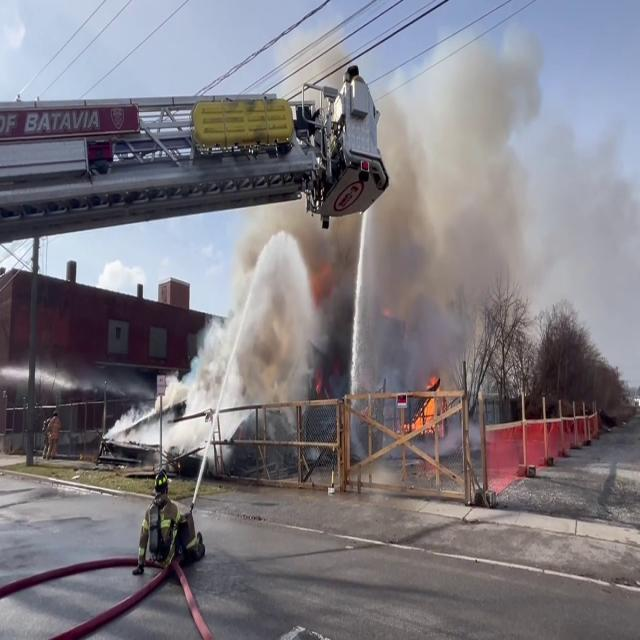Fire: (421, 362, 446, 430)
Smoke: (158, 30, 546, 428)
